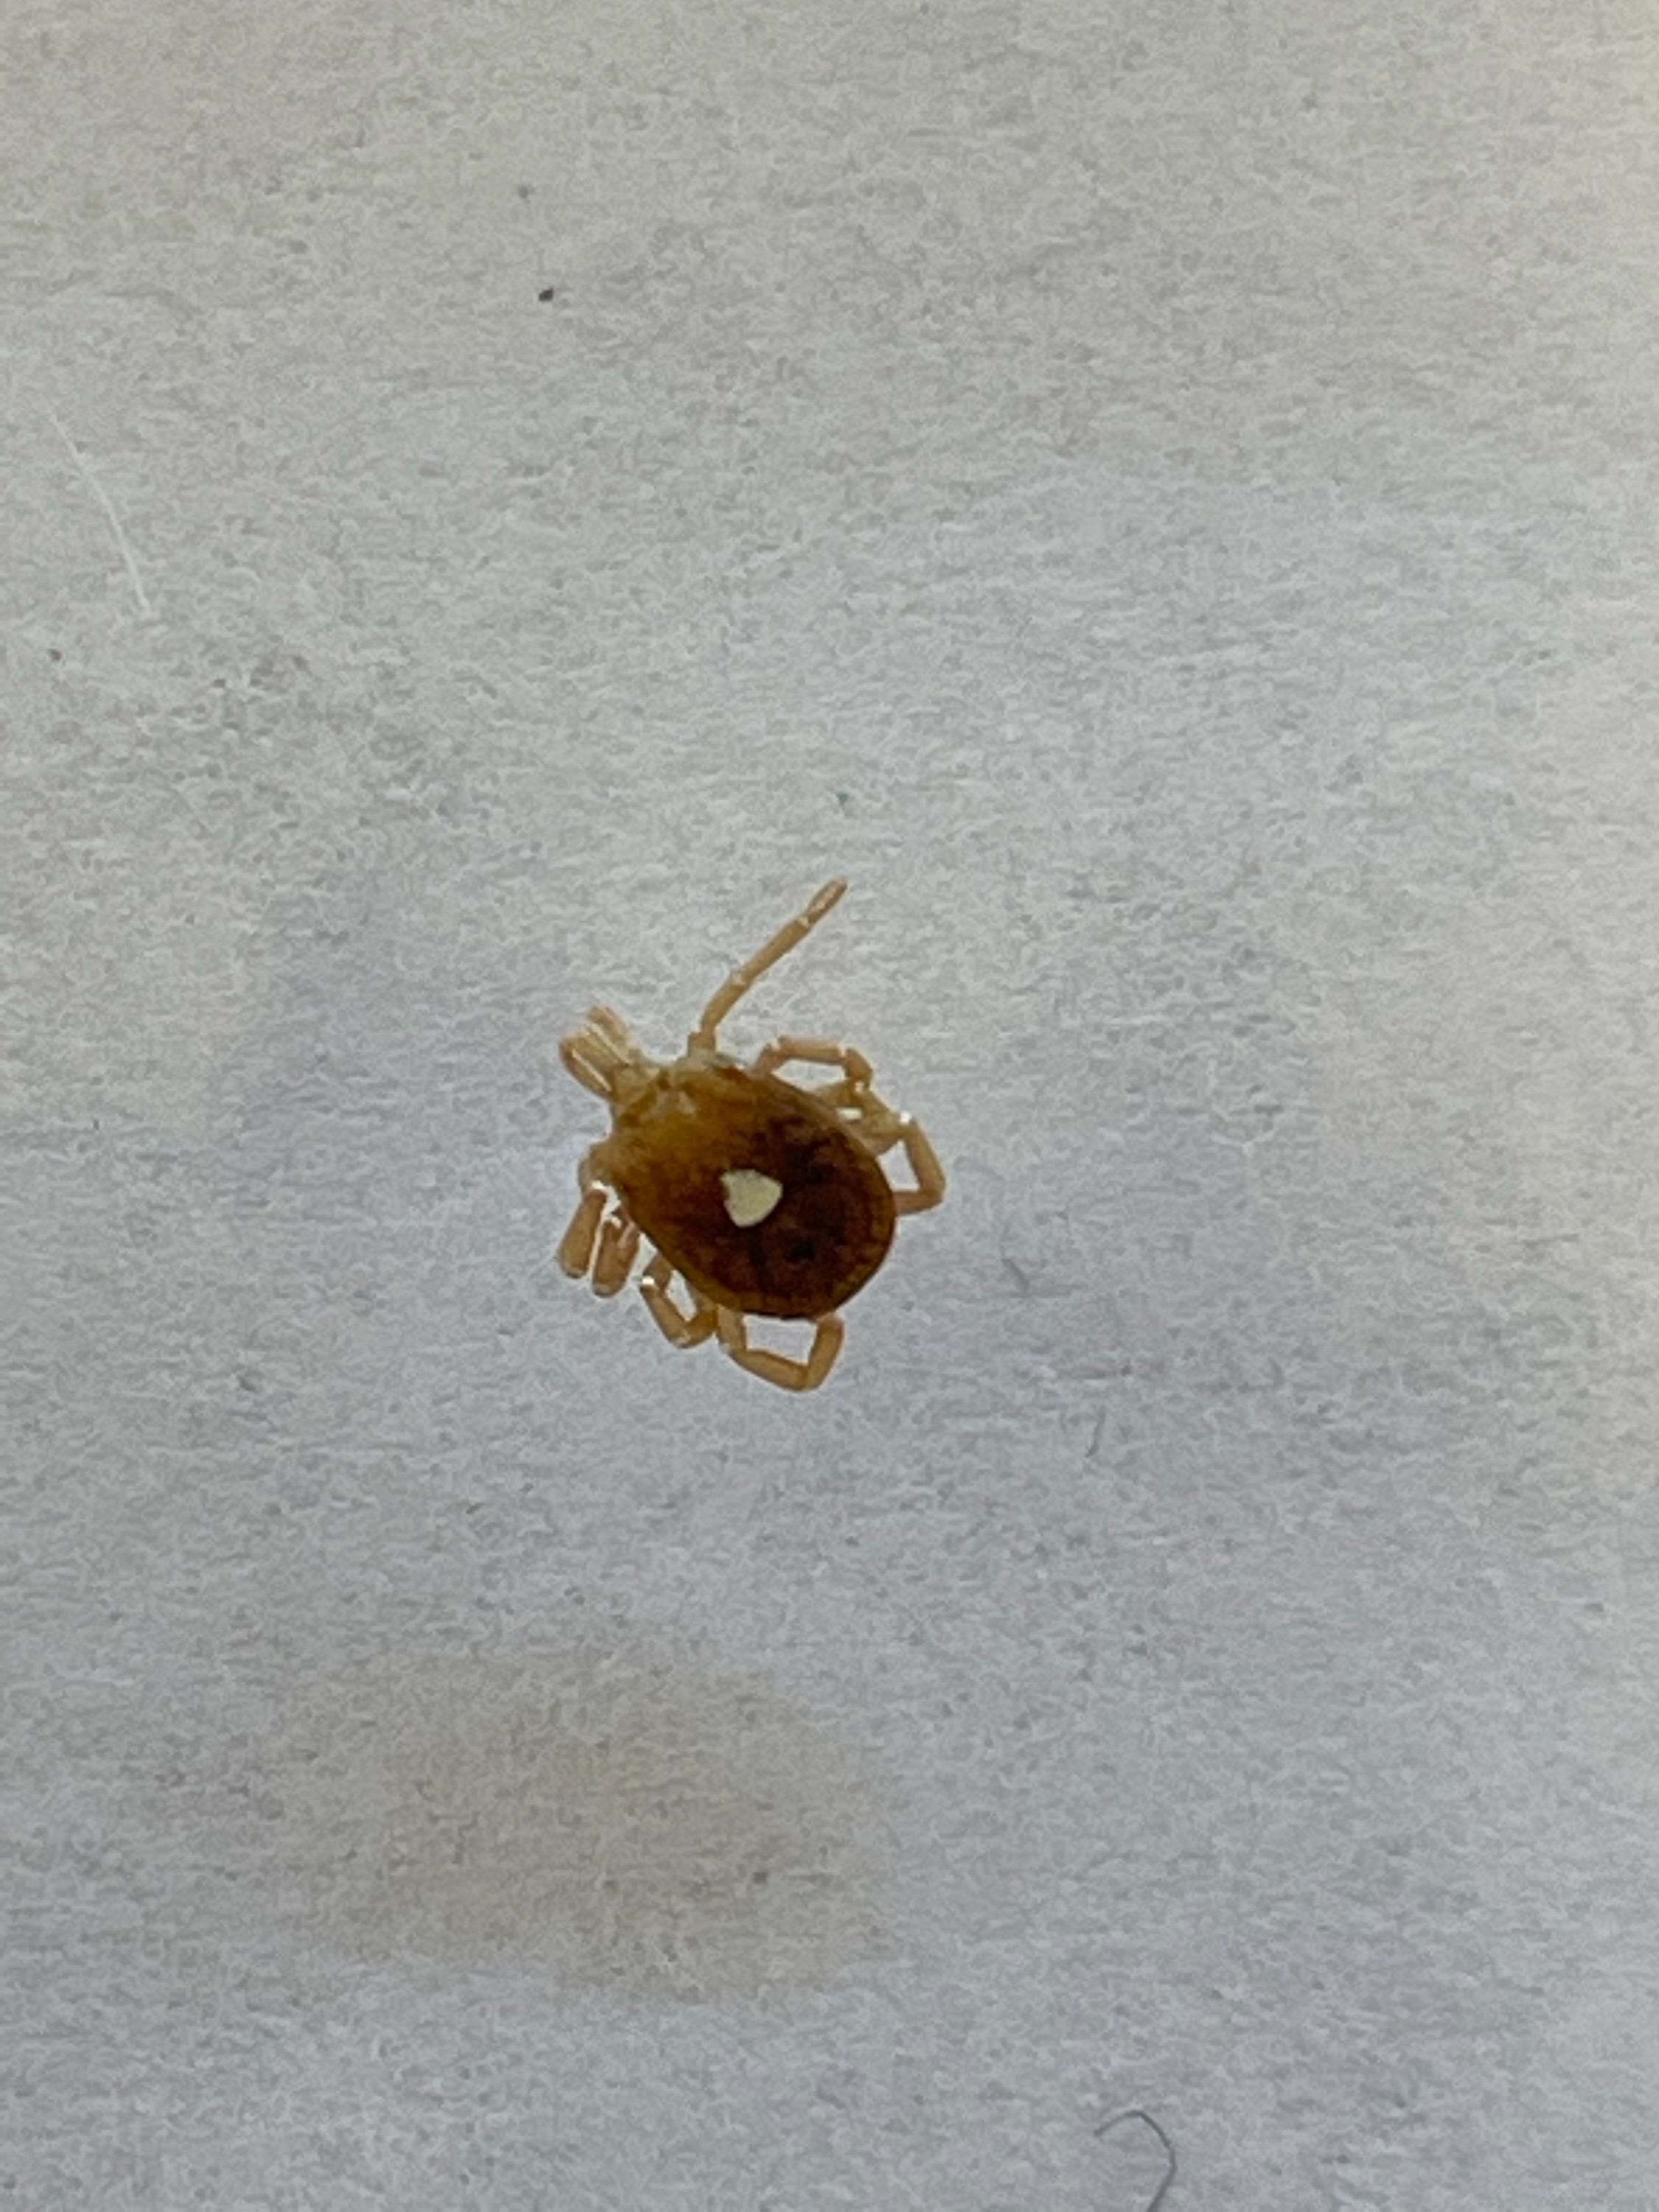unlabelled_tick: (491, 872, 957, 1421)
